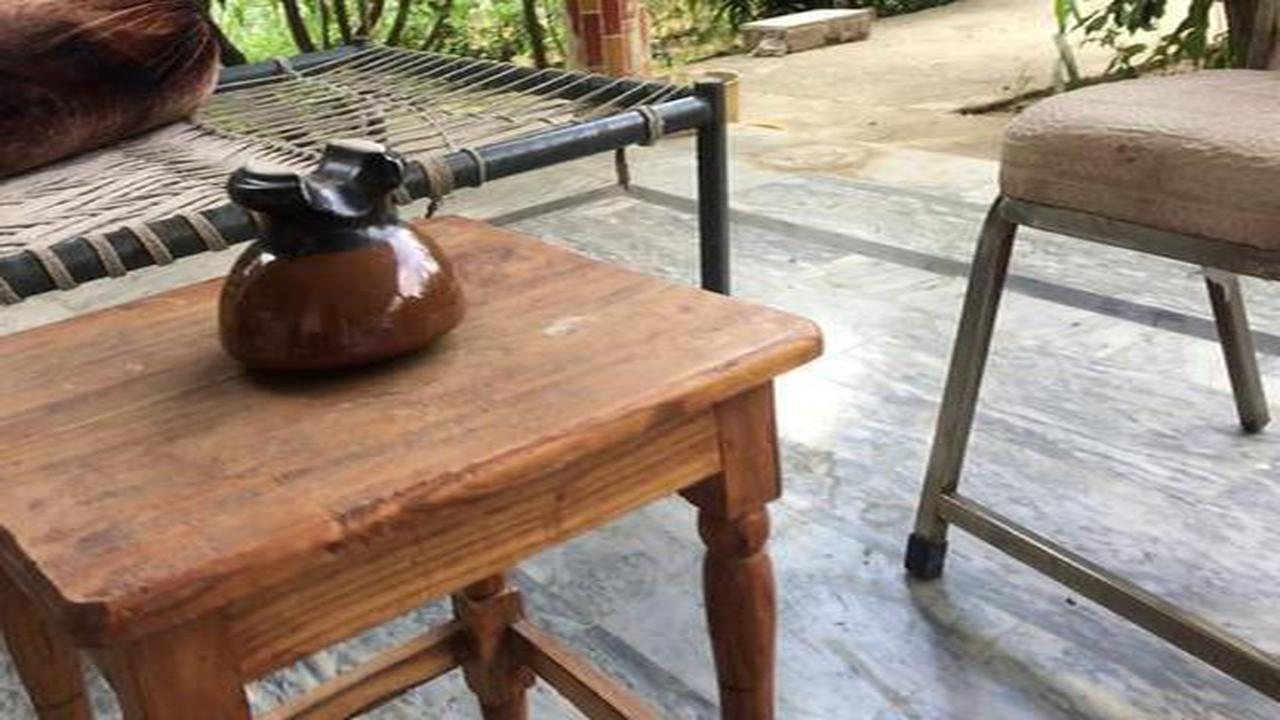insulator_pin: (204, 129, 477, 393)
